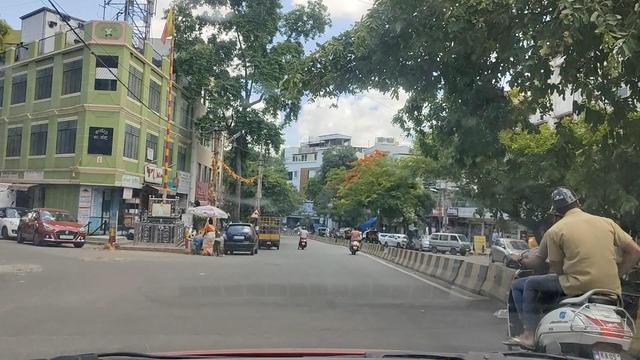LMV: (501, 204, 628, 360), (226, 222, 263, 253)
